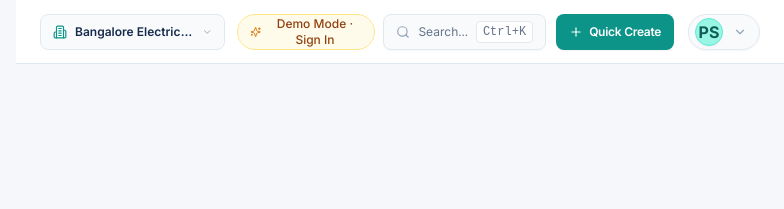
Test case: Atlas OS Navigation, Identity Fallbacks & Role-Based Access › Role-Based Navigation Visibility & Route Guards › filters Quick Create dropdown options by role permissions
What coordinates should you click on to do the following:
click the button "Quick Create"
I would click on:
 (615, 32)
Its box is [556, 14, 674, 50].
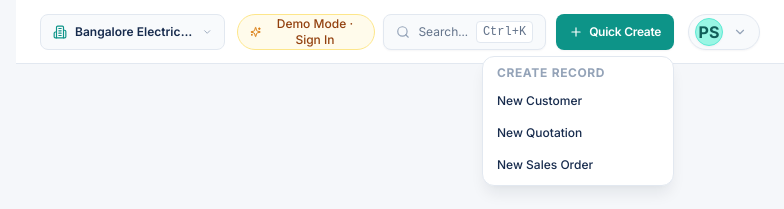
Now the button "New Customer" is shown, box [487, 84, 669, 116]
Now the button "New Quotation" is shown, box [487, 116, 669, 148]
Now the button "New Sales Order" is shown, box [487, 148, 669, 180]
